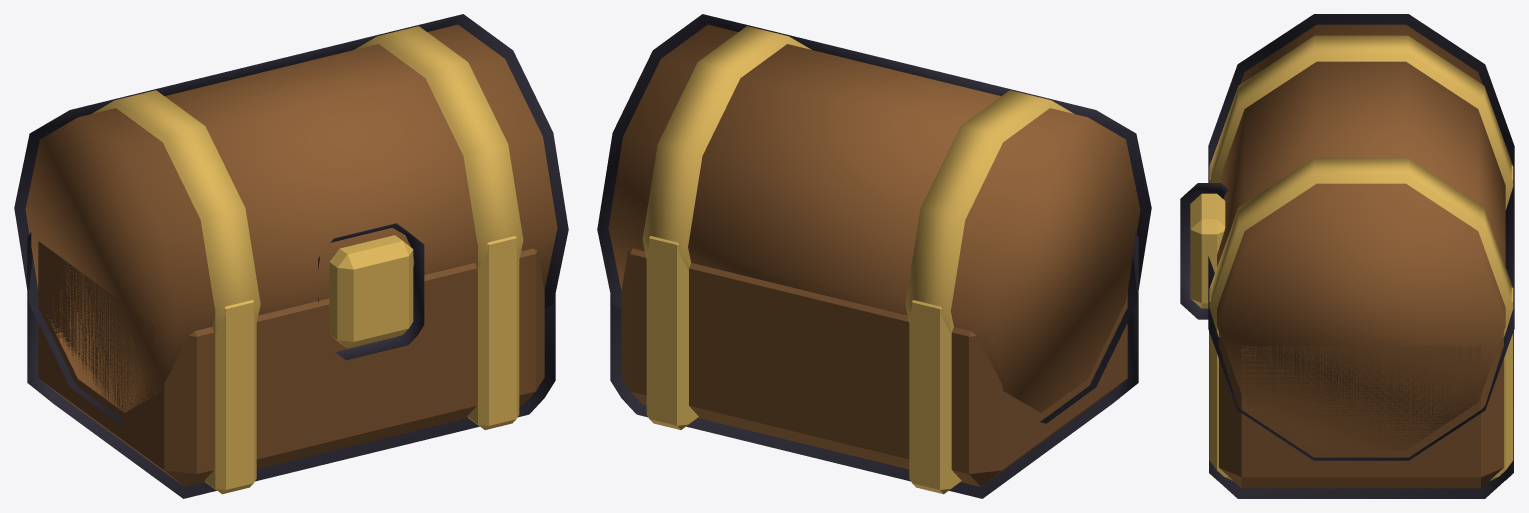
Rendered from chest.glb.
3 renders of one model, left to right at view 1: azimuth 30°, elevation 25°; view 2: azimuth 150°, elevation 25°; view 3: azimuth 270°, elevation 25°, orthographic. The views are drawn at different scales.
Visible parts, largest first — view 1: chest; view 2: chest; view 3: chest.
Boxes of the visible parts, <box> form: chest: <box>14,14,568,498</box>; chest: <box>597,14,1151,498</box>; chest: <box>1180,14,1514,498</box>.
Bounding box in the file's own units: 1.15 × 0.9095 × 0.8792.
